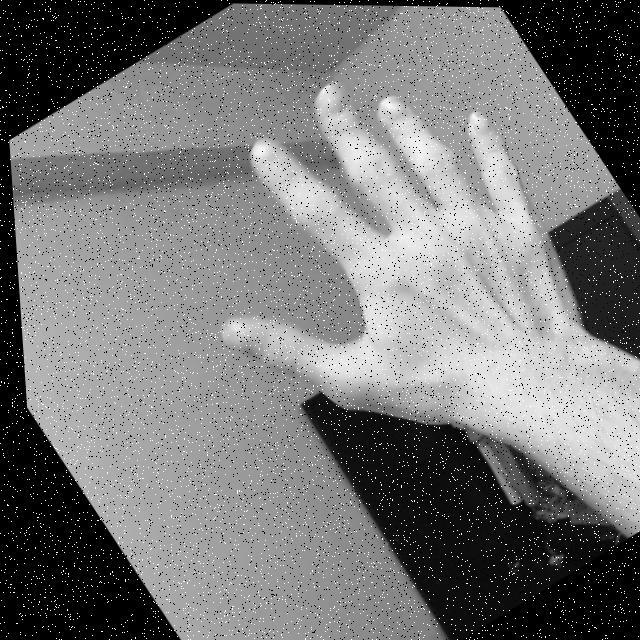no-gloves: (118, 16, 621, 492)
